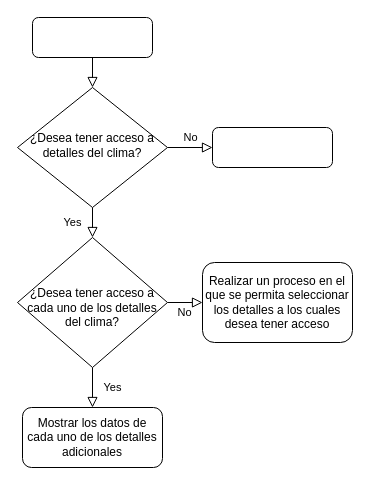
Image size: 370x485. Some labels were removed from this diagram. Here are the shapes that lost their labels. From the top down, the centre of each, then its label:
At point (92, 37): "Login".
At point (272, 147): "No acceder a este proceso".
